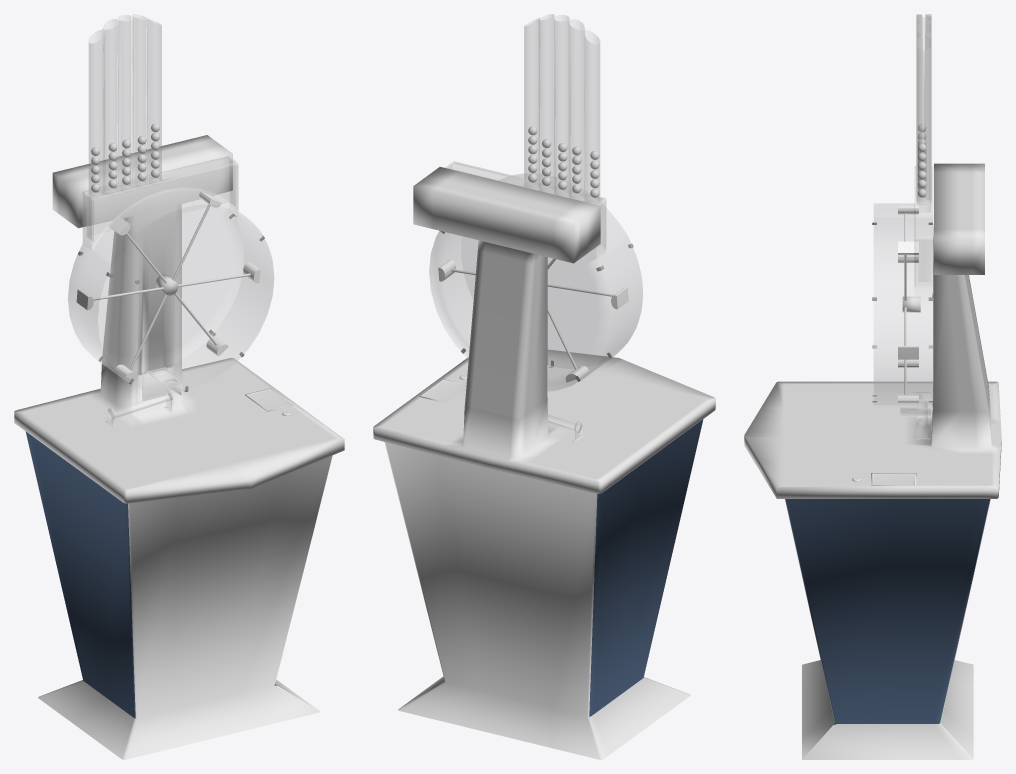
Rendered from modal.glb.
The picture shows the model from 3 angles, left to right: view 1: azimuth 30°, elevation 25°; view 2: azimuth 150°, elevation 25°; view 3: azimuth 270°, elevation 25°; orthographic projection. The views are drawn at different scales.
Parts seen in each view (by area): view 1: Plane, Circle, Circle.001, Cylinder, Cylinder.012, Plane.004, Cylinder.003; view 2: Plane, Circle, Cylinder, Circle.001, Cylinder.012, Plane.004; view 3: Plane, Circle, Cylinder, Cylinder.012, Plane.004.
Part boxes in pixels (box(x1,y1,x2,y2)): Plane: box(14, 135, 344, 759); Circle: box(68, 156, 273, 393); Circle.001: box(98, 205, 273, 393); Cylinder: box(89, 14, 161, 198); Cylinder.012: box(76, 191, 260, 380); Plane.004: box(245, 388, 292, 411); Cylinder.003: box(108, 389, 172, 418); Plane: box(373, 167, 715, 759); Circle: box(429, 161, 642, 391); Cylinder: box(524, 14, 599, 204); Circle.001: box(461, 174, 642, 368); Cylinder.012: box(438, 258, 628, 382); Plane.004: box(419, 379, 466, 403); Plane: box(744, 163, 1001, 759); Circle: box(874, 166, 932, 405); Cylinder: box(916, 14, 931, 204); Cylinder.012: box(898, 206, 920, 402); Plane.004: box(871, 473, 916, 485).
Bounding box in the file's own units: 3.21 × 9.52 × 3.28.
